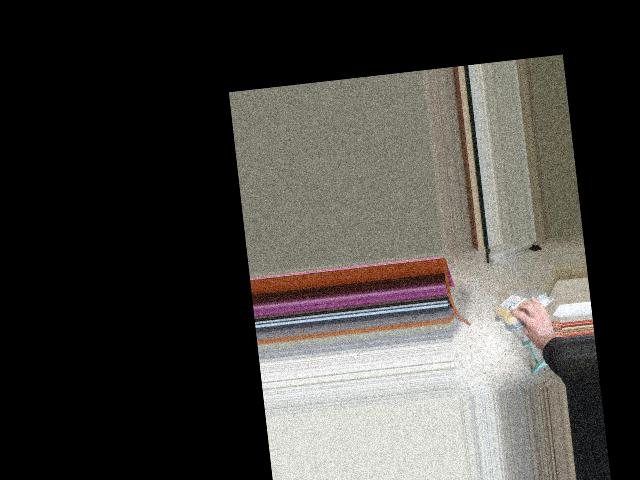cheese: (486, 290, 551, 325)
